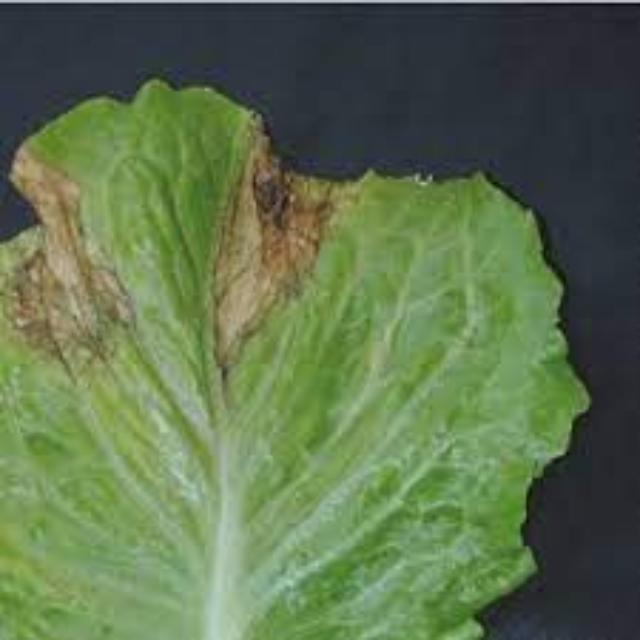Downy_mildew: (8, 73, 482, 613)
